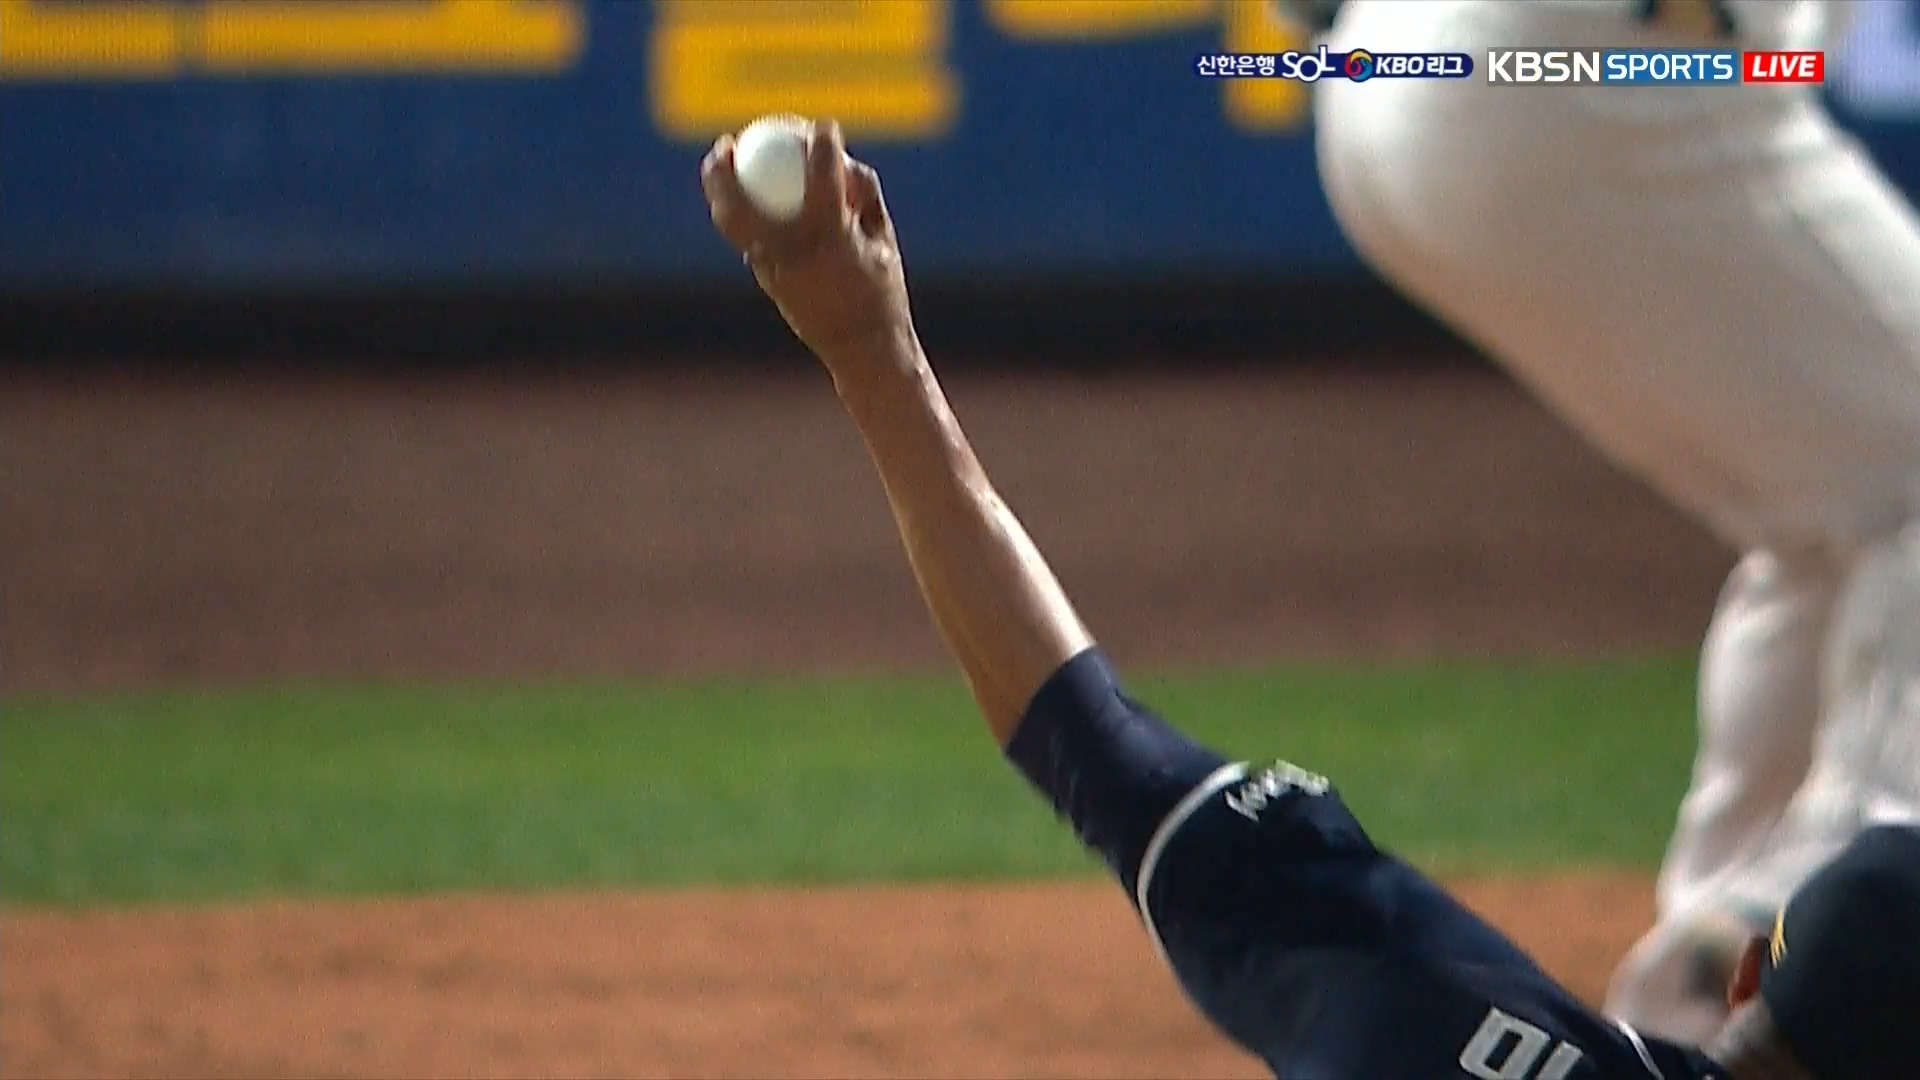zoomin_hand: (691, 90, 1134, 775)
